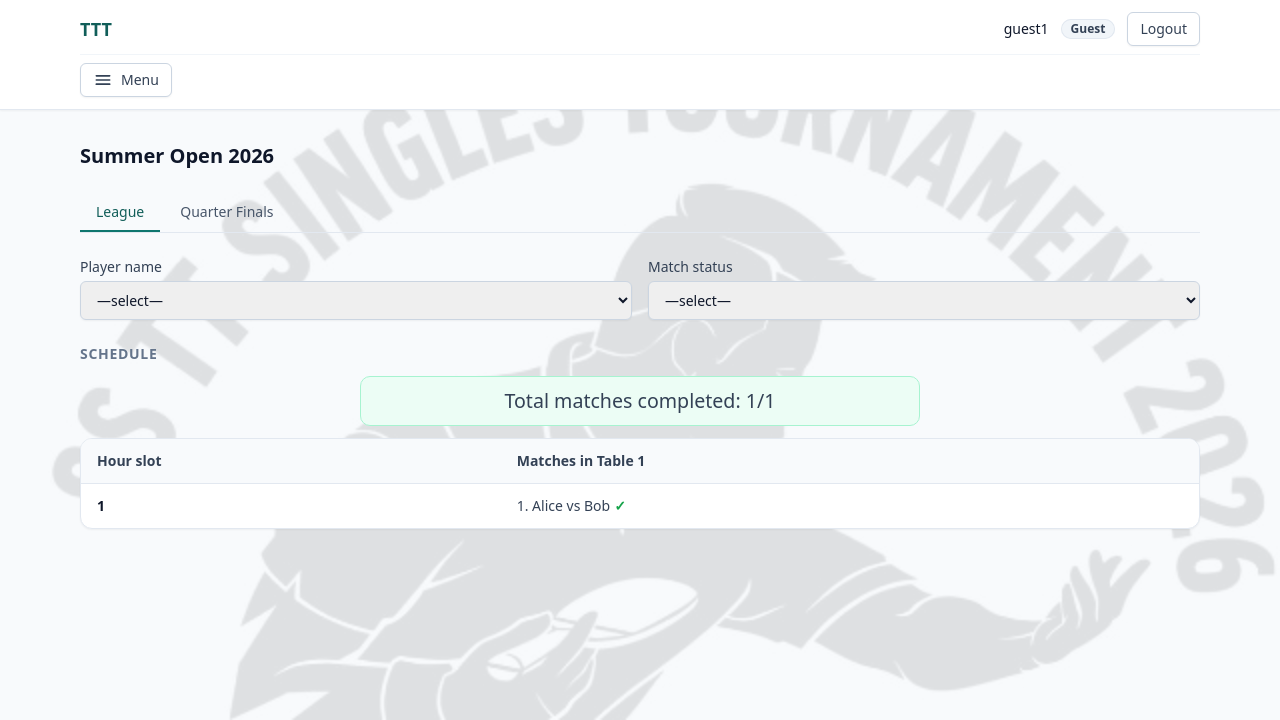
Test: Schedule filters › filters matches by player name and completion status
expect the text "1. Alice vs Bob" is shown: met, box x1=517 y1=496 x2=610 y2=516
expect the text "Total matches completed: 1/1" is shown: met, box x1=360 y1=376 x2=920 y2=426
Select "Alice" in the dropdown labelled "Player name" at coordinates (356, 300), box x1=80 y1=281 x2=632 y2=320
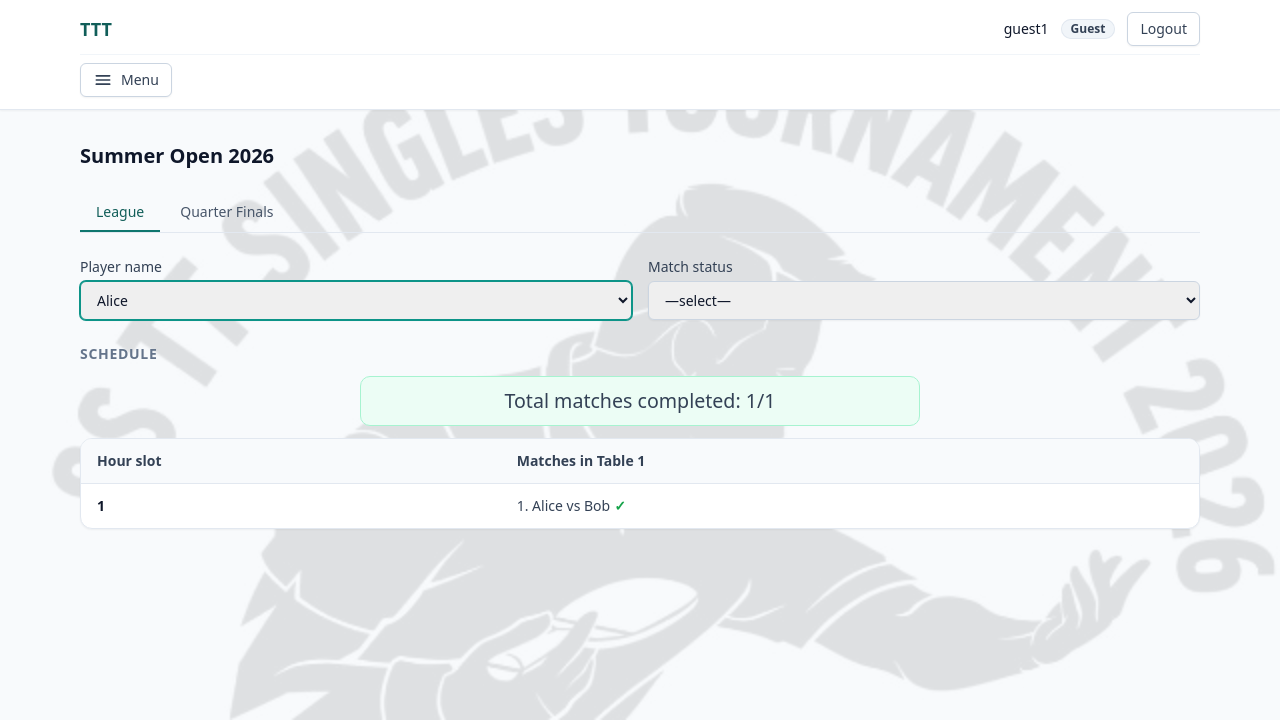
expect the text "1. Alice vs Bob" is shown: met, box x1=517 y1=496 x2=610 y2=516
Select "Pending matches" in the dropdown labelled "Match status" at coordinates (924, 300), box x1=648 y1=281 x2=1200 y2=320
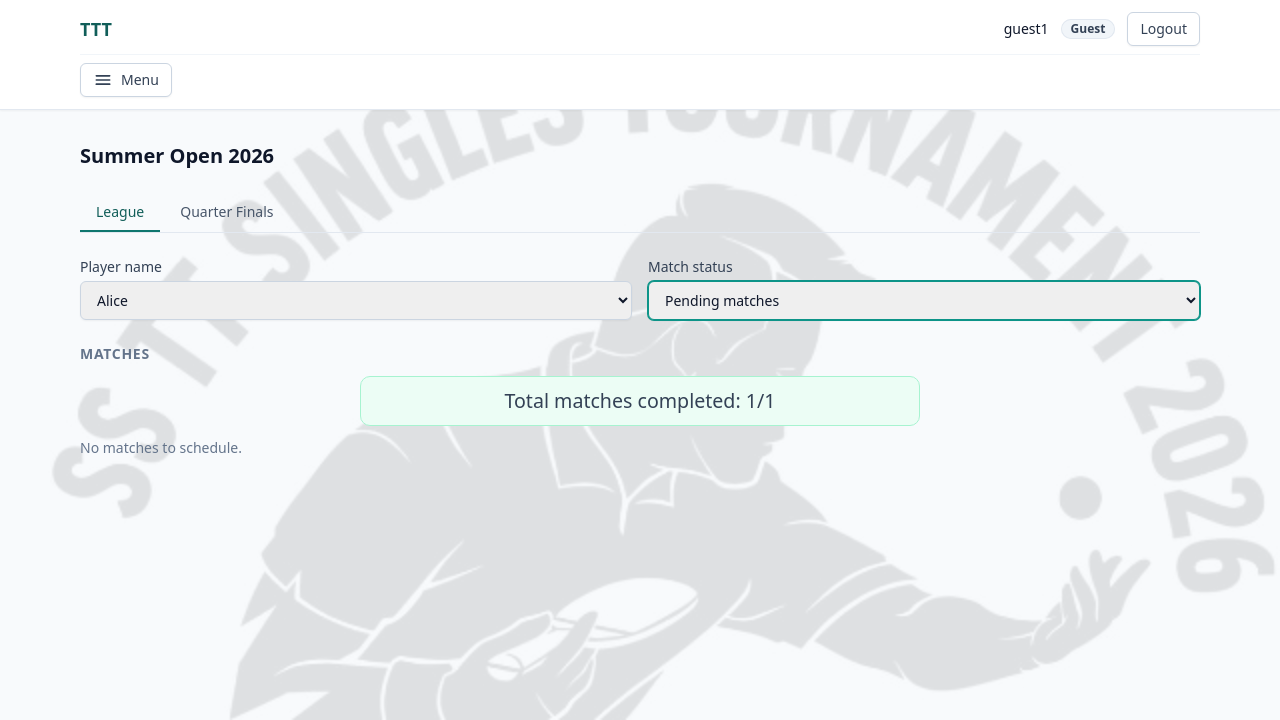
expect the text "Total matches completed: 1/1" is shown: met, box x1=360 y1=376 x2=920 y2=426
expect the text "1. Alice vs Bob" is gone: met
Select "Completed matches" in the dropdown labelled "Match status" at coordinates (924, 300), box x1=648 y1=281 x2=1200 y2=320
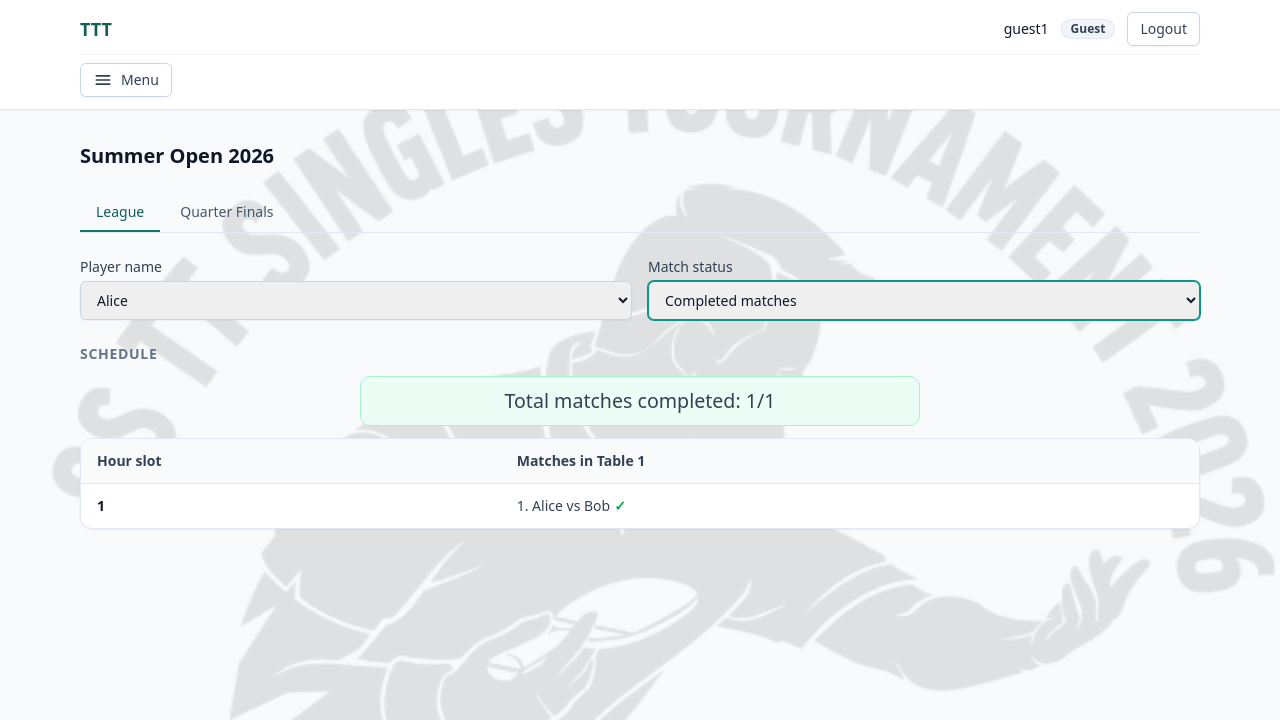
expect the text "1. Alice vs Bob" is shown: met, box x1=517 y1=496 x2=610 y2=516
